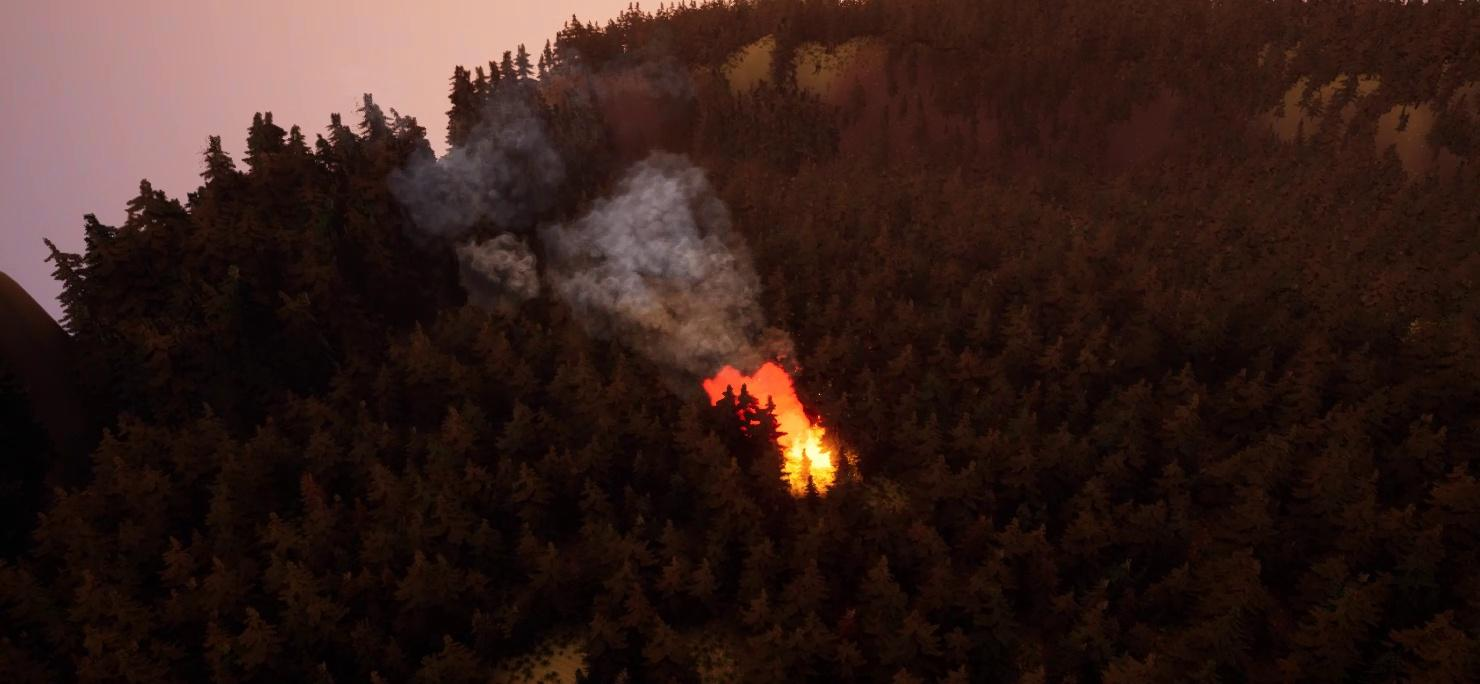fire: (693, 355, 849, 493)
smoke: (395, 88, 775, 355)
